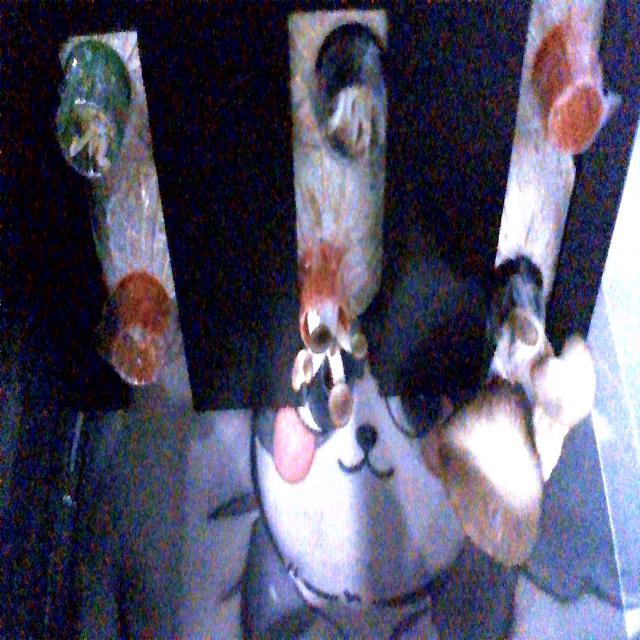big: (440, 285, 602, 553)
nfound: (51, 70, 127, 185), (551, 52, 611, 178), (111, 311, 170, 395)
small: (308, 45, 394, 170), (293, 291, 369, 430)
